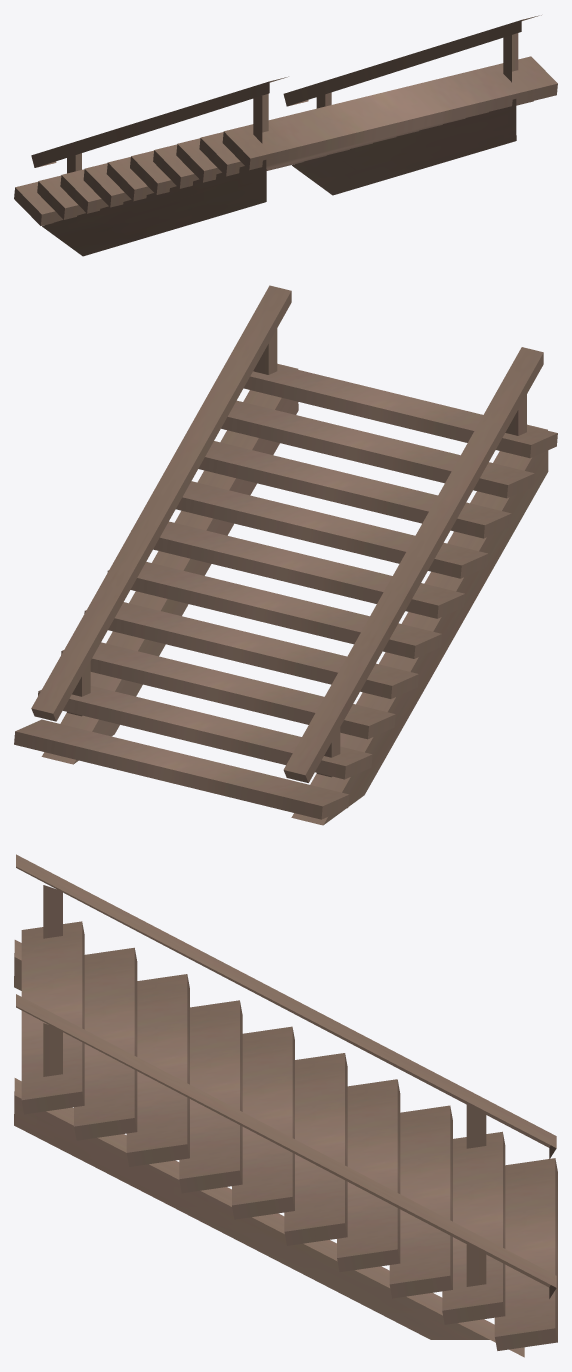
Rendered from stair_wood.fbx.
3 views of the same model, one above another, from view 1: azimuth 30°, elevation 25°; view 2: azimuth 150°, elevation 25°; view 3: azimuth 270°, elevation 25° (orthographic). The views are drawn at different scales.
Parts seen in each view (by area): view 1: stair_wood; view 2: stair_wood; view 3: stair_wood.
Boxes of the visible parts, <box> form: stair_wood: <box>14,15,557,256</box>; stair_wood: <box>14,285,557,825</box>; stair_wood: <box>14,854,557,1357</box>.
Size of the model in its own units: 4.01 by 3.84 by 5.41.
